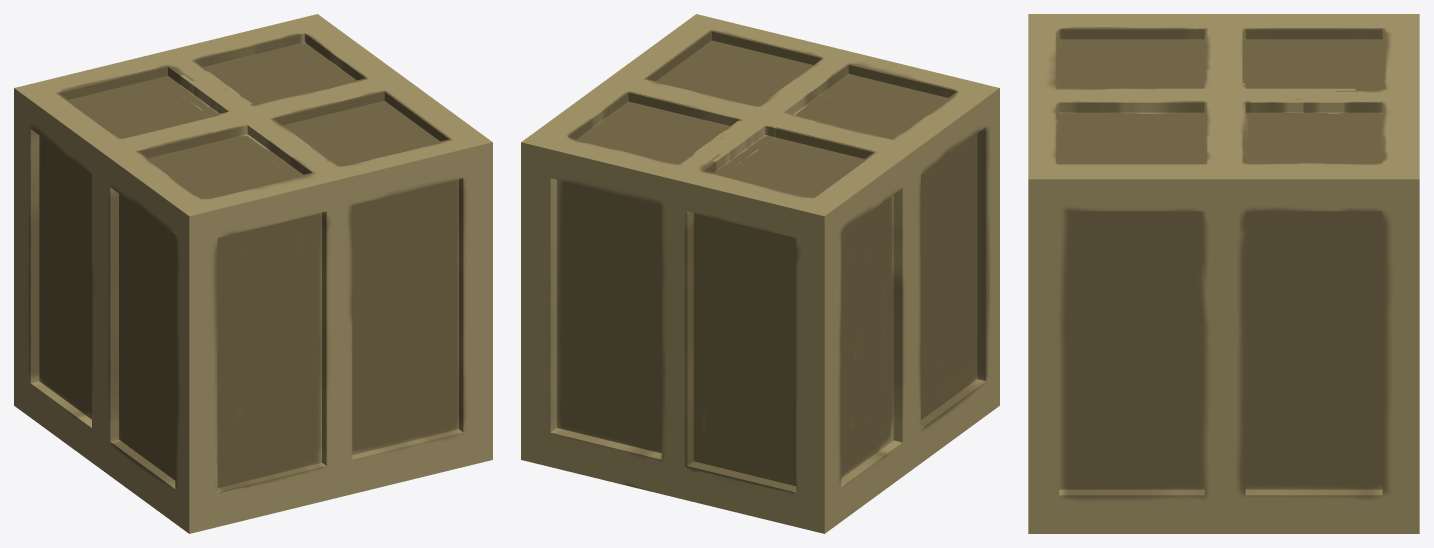
The model's file is crate.fbx.
The picture shows the model from 3 angles, left to right: view 1: azimuth 30°, elevation 25°; view 2: azimuth 150°, elevation 25°; view 3: azimuth 270°, elevation 25°; orthographic projection. The views are drawn at different scales.
Parts seen in each view (by area): view 1: Cube; view 2: Cube; view 3: Cube.
Boxes of the visible parts, x1,y1,x2,y2 form: Cube: [14, 14, 492, 533]; Cube: [521, 14, 999, 533]; Cube: [1028, 14, 1419, 533].
Bounding box in the file's own units: 372 × 372 × 372.
1 material, 1 textured.
